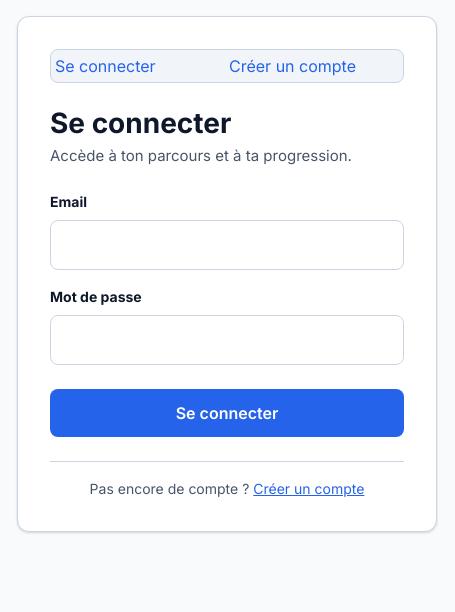
Test: Page de connexion › affiche une erreur et ne redirige pas quand la connexion échoue
The image size is (455, 612).
Type "learner@example.com" into the field labelled "Email" at point(227, 245), box [50,220,404,270]
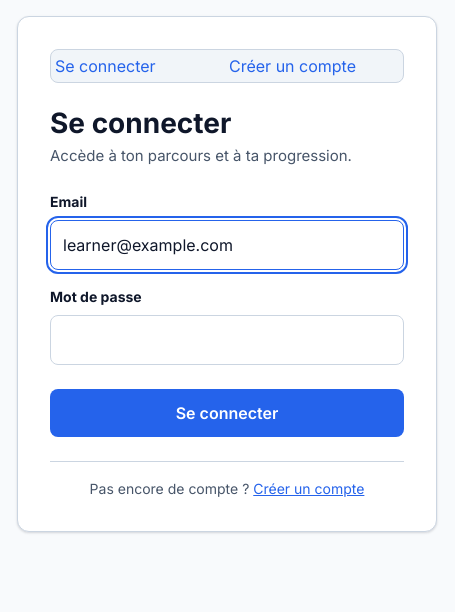
Type "password123" into the password field labelled "Mot de passe" at point(227, 340), box [50,315,404,365]
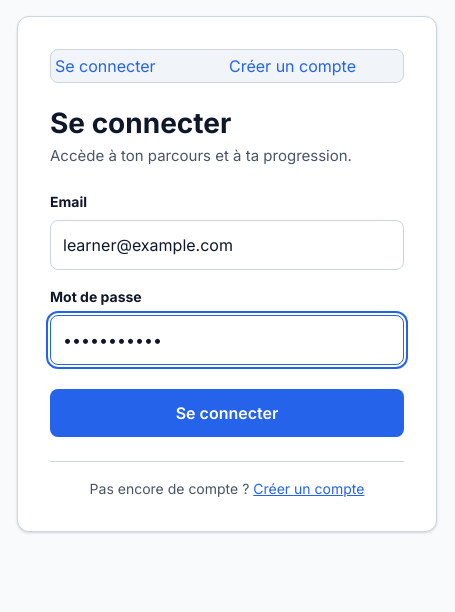
Click the button "Se connecter" at point(227, 413), box [50,389,404,437]
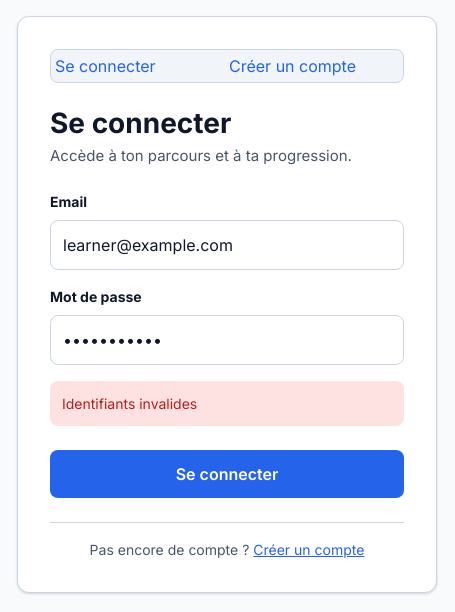
Check: the message reads "Identifiants invalides", box [62,395,197,412]
